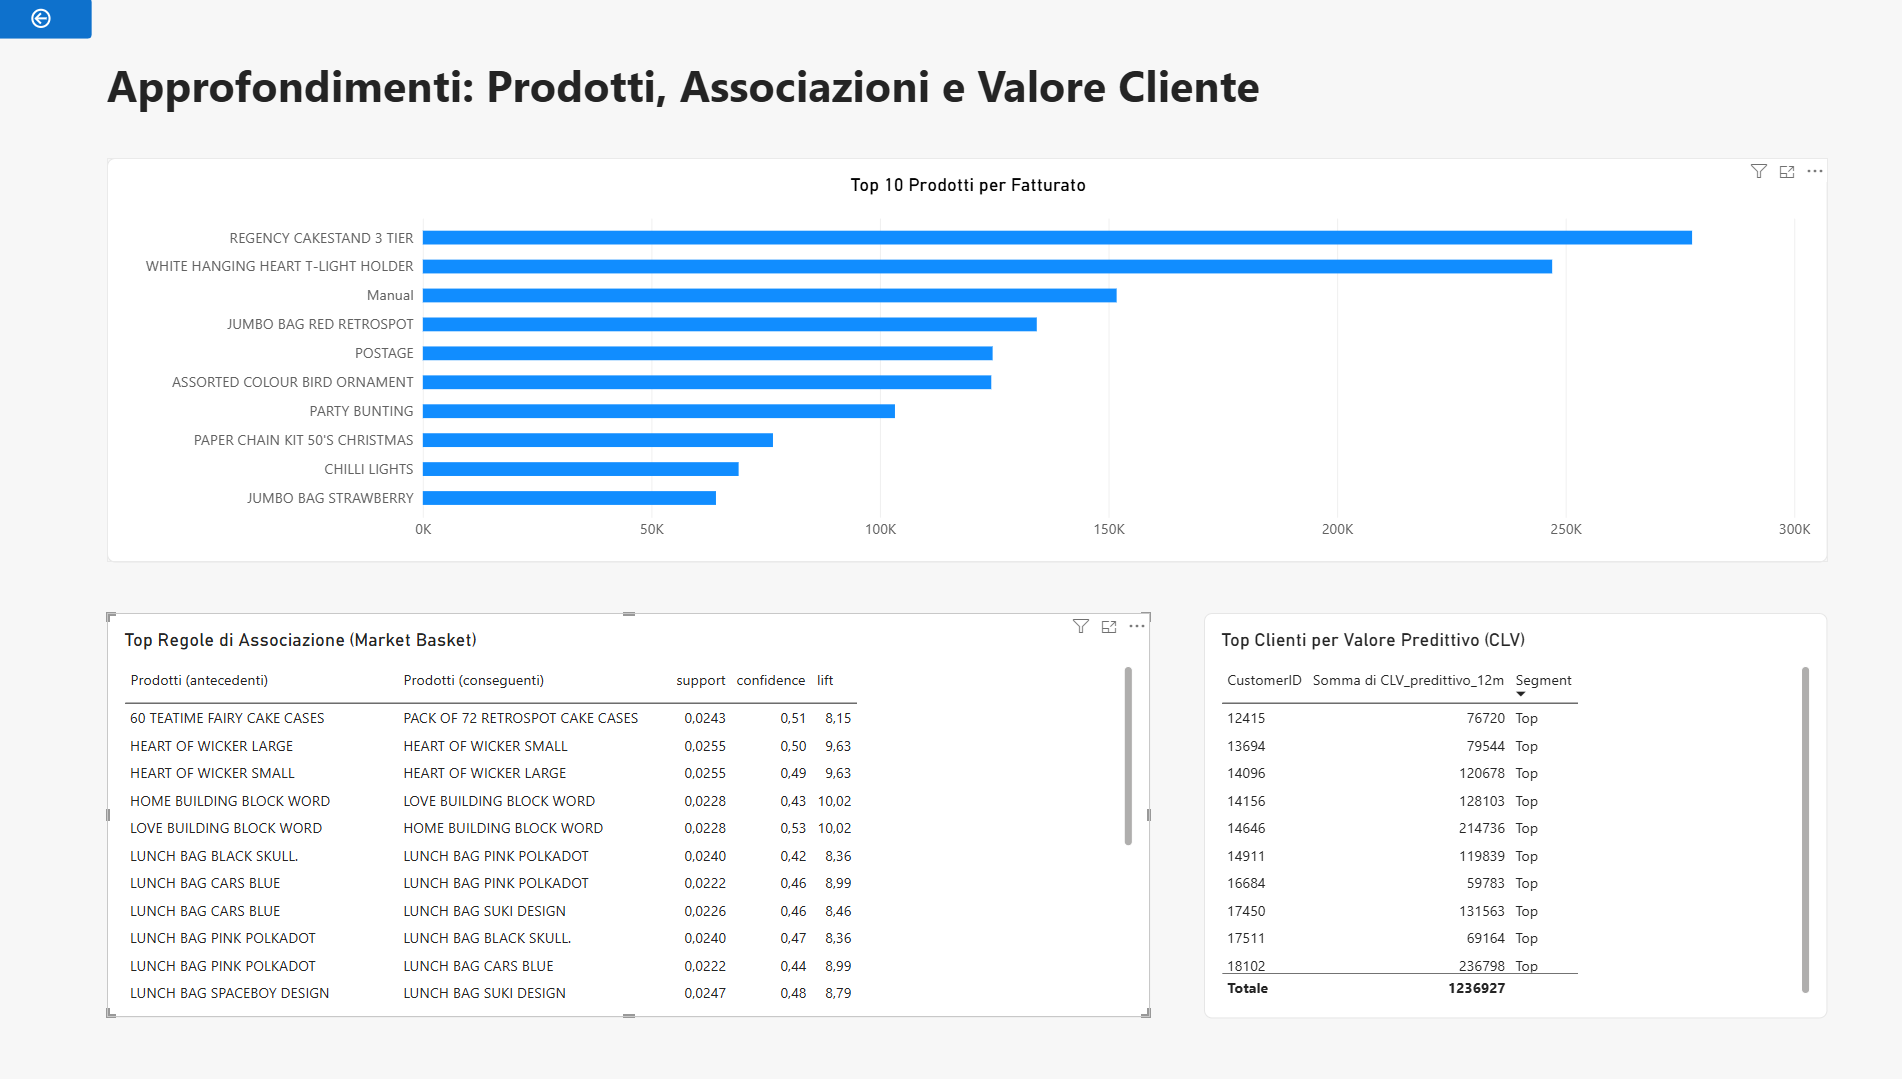

This screenshot's page, from the dashboard's own definition file:
{"tool":"powerbi","page":{"name":"Approfondimenti","canvas":[1920,1080],"ordinal":1},"visuals":[{"type":"barChart","title":"Top 10 Prodotti per Fatturato","fields":{"Category":["online_retail_clean.Description"],"Y":["customer_rfm.Fatturato Totale"]},"box":[114.8,157.4,1689.2,396.5],"z":0},{"type":"tableEx","title":"Top Regole di Associazione (Market Basket)","fields":{"Values":["market_basket_rules.Prodotti (antecedenti)","market_basket_rules.Prodotti (conseguenti)","market_basket_rules.support","market_basket_rules.confidence","market_basket_rules.lift"]},"box":[114.8,603.7,1024,397],"z":1000},{"type":"actionButton","box":[0,0,100,40],"z":2000},{"type":"tableEx","title":"Top Clienti per Valore Predittivo (CLV)","fields":{"Values":["customer_clv_predittivo.CustomerID","Sum(customer_clv_predittivo.CLV_predittivo_12m)","customer_clv_predittivo.Segment"]},"box":[1192,603.7,612,397.7],"z":3000},{"type":"textbox","box":[114.8,55.6,1254.7,76.9],"z":4000}]}

Visuals, with their boxes on the page's 1920x1080 design canvas (x1, y1, x2, y2). These are canvas units, not pixel positions in the 1902x1079 screenshot, which may show the page scaled, cropped or inside an application window:
"Top 10 Prodotti per Fatturato" barChart: x1=115 y1=157 x2=1804 y2=554
"Top Regole di Associazione (Market Basket)" tableEx: x1=115 y1=604 x2=1139 y2=1001
actionButton: x1=0 y1=0 x2=100 y2=40
"Top Clienti per Valore Predittivo (CLV)" tableEx: x1=1192 y1=604 x2=1804 y2=1001
textbox: x1=115 y1=56 x2=1370 y2=132
